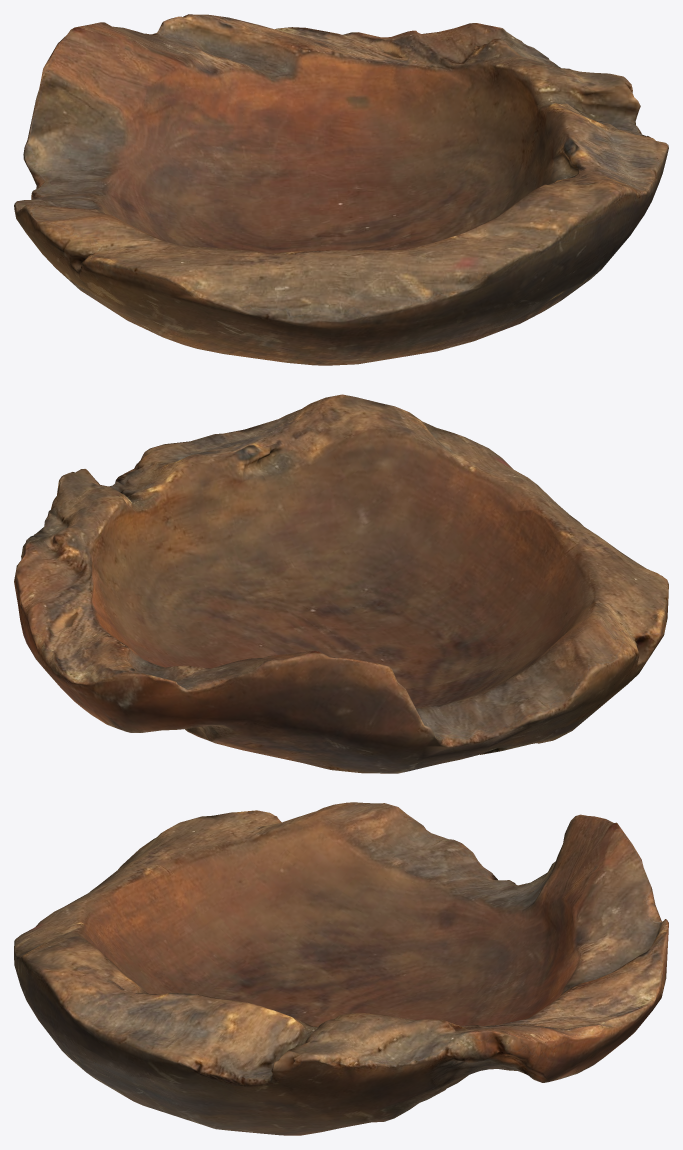
Rendered from bowl.glb.
3 renders of one model, top to bottom at view 1: azimuth 30°, elevation 25°; view 2: azimuth 150°, elevation 25°; view 3: azimuth 270°, elevation 25°, orthographic. The views are drawn at different scales.
Parts seen in each view (by area): view 1: wooden_bowl_01; view 2: wooden_bowl_01; view 3: wooden_bowl_01.
Part boxes in pixels (x1=…): wooden_bowl_01: x1=14, y1=14, x2=668, y2=365; wooden_bowl_01: x1=14, y1=394, x2=668, y2=773; wooden_bowl_01: x1=14, y1=802, x2=668, y2=1135.
Bounding box in the file's own units: 0.2099 × 0.0628 × 0.2073.
1 material, 1 textured.
